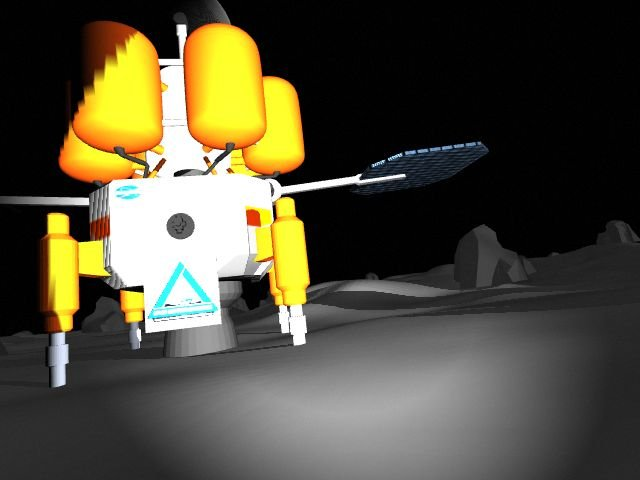basemarker: (147, 259, 220, 323)
